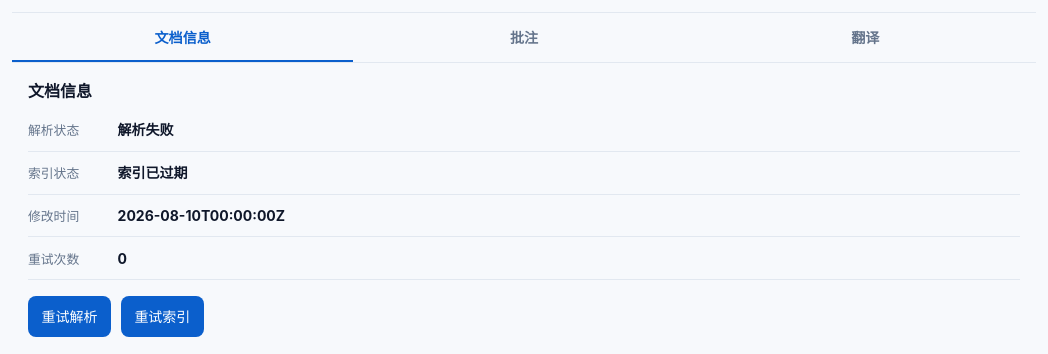
Scenario: DocumentContextPanel › opens the medical translation tab with the same captured selection
Click the tab "翻译". click: {"x": 865, "y": 37}
box: [695,13,1036,62]
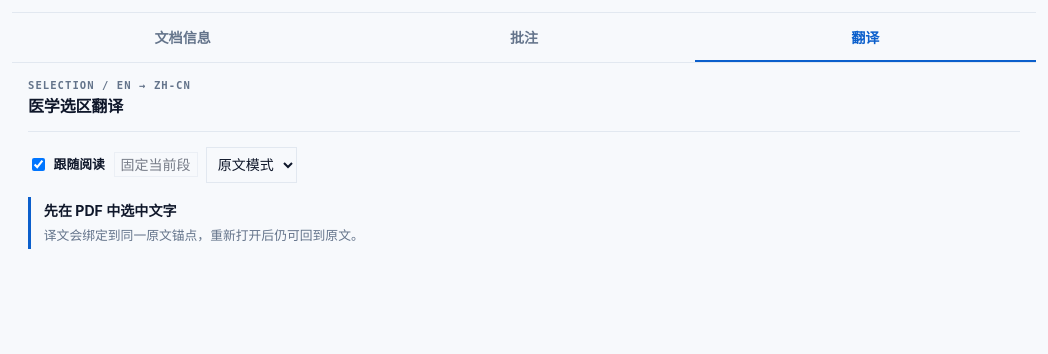
Expected: the text "先在 PDF 中选中文字" is shown, [44,202,177,219]
